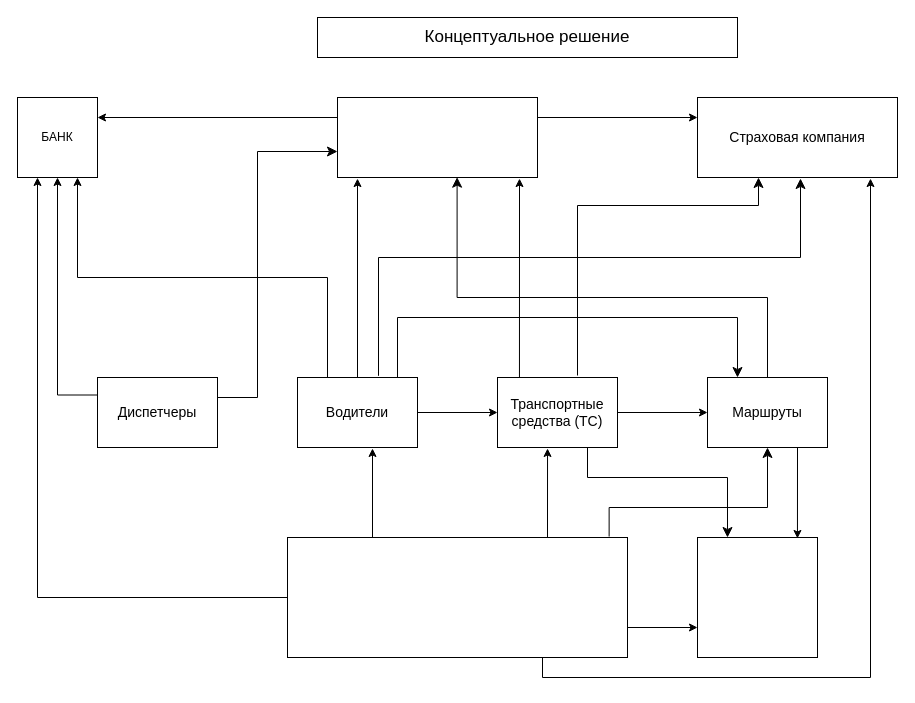
Image size: 915x703. Some labels were removed from this diagram. The centre of each missing label's shape, as x and y in pixels:
"Карта" goes at (x=757, y=597).
"Пассажиры" goes at (x=457, y=597).
"Перевозчик" goes at (x=437, y=137).
